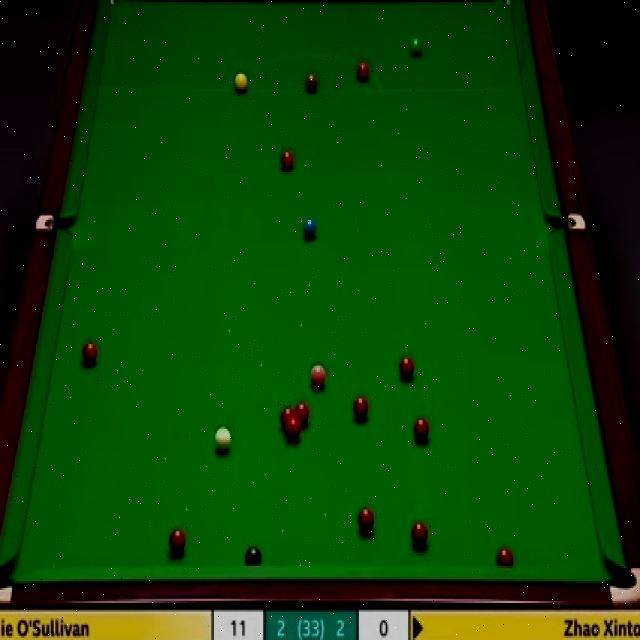black-ball: (245, 546, 262, 566)
blue-ball: (302, 215, 317, 241)
brown-ball: (303, 70, 318, 95)
green-ball: (407, 38, 424, 58)
pink-ball: (310, 360, 327, 389)
red-ball: (397, 354, 416, 385), (80, 339, 99, 369), (168, 528, 186, 556), (410, 522, 428, 550), (357, 506, 375, 534), (412, 414, 429, 442), (278, 147, 296, 172), (352, 394, 368, 422), (295, 402, 310, 430), (497, 546, 514, 568), (286, 420, 300, 442), (280, 406, 294, 428), (356, 61, 370, 81)
white-ball: (213, 424, 233, 459)
yellow-ball: (233, 71, 248, 92)
